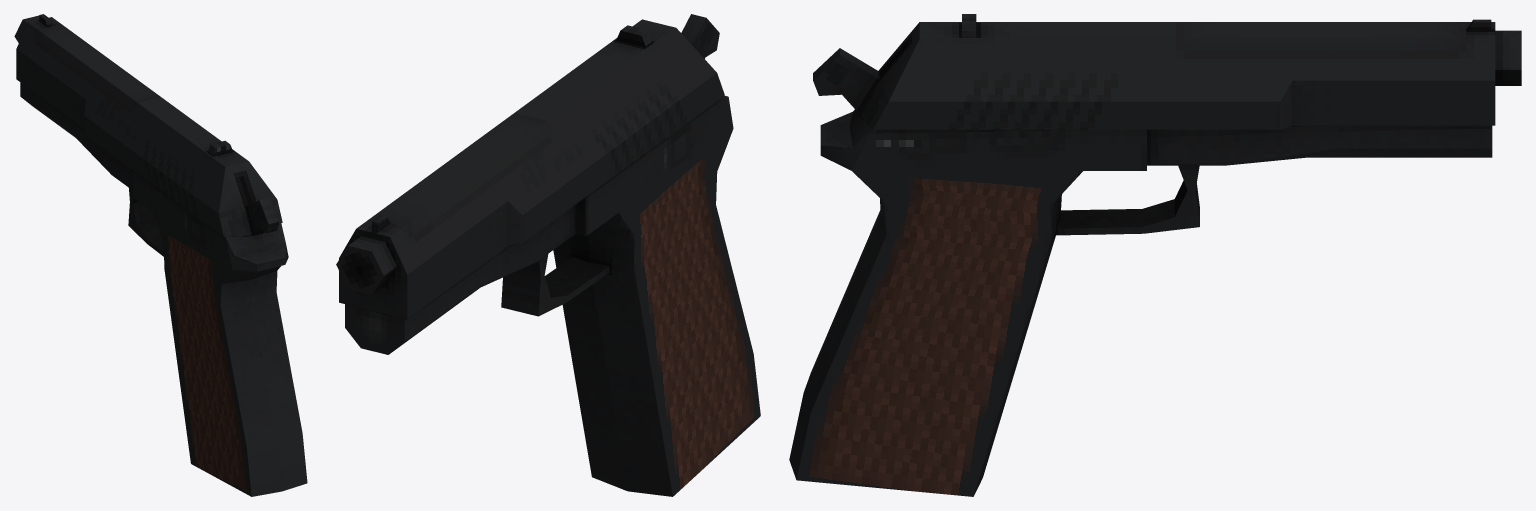
Rendered from army_pistol.gltf.
3 views of the same model, side by side, from view 1: azimuth 30°, elevation 25°; view 2: azimuth 150°, elevation 25°; view 3: azimuth 270°, elevation 25° (orthographic). The views are drawn at different scales.
Visible parts, largest first — view 1: gun; view 2: gun; view 3: gun.
Part boxes in pixels (x1,y1,x2,y2): gun: (14, 14, 307, 496); gun: (336, 14, 760, 496); gun: (789, 14, 1521, 496).
Bounding box in the file's own units: 0.008 × 0.0409 × 0.0592.
1 material, 1 textured.
